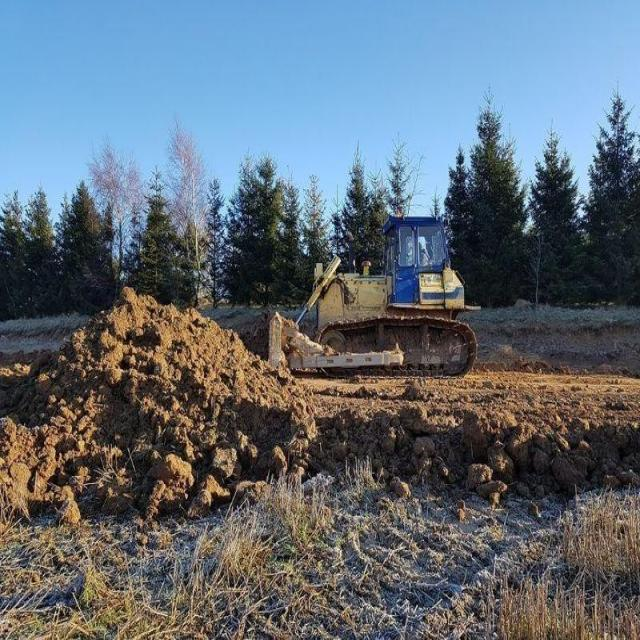Bulldozer: (243, 182, 488, 401)
